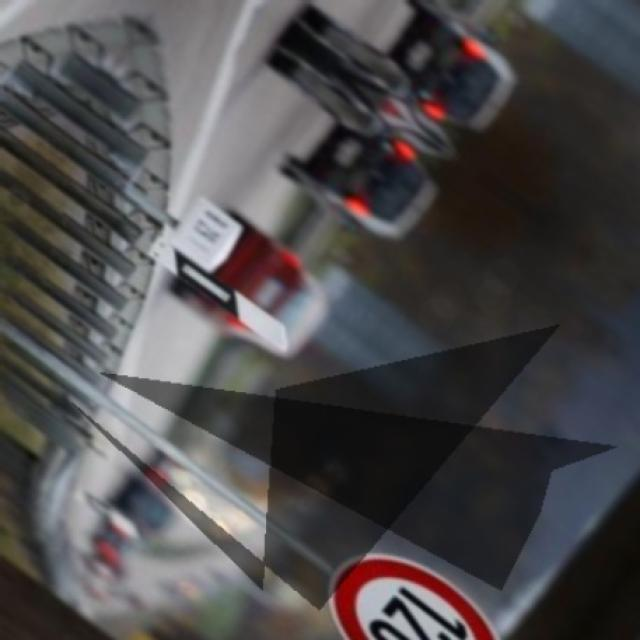forb_speed_over_120: (302, 524, 533, 640)
